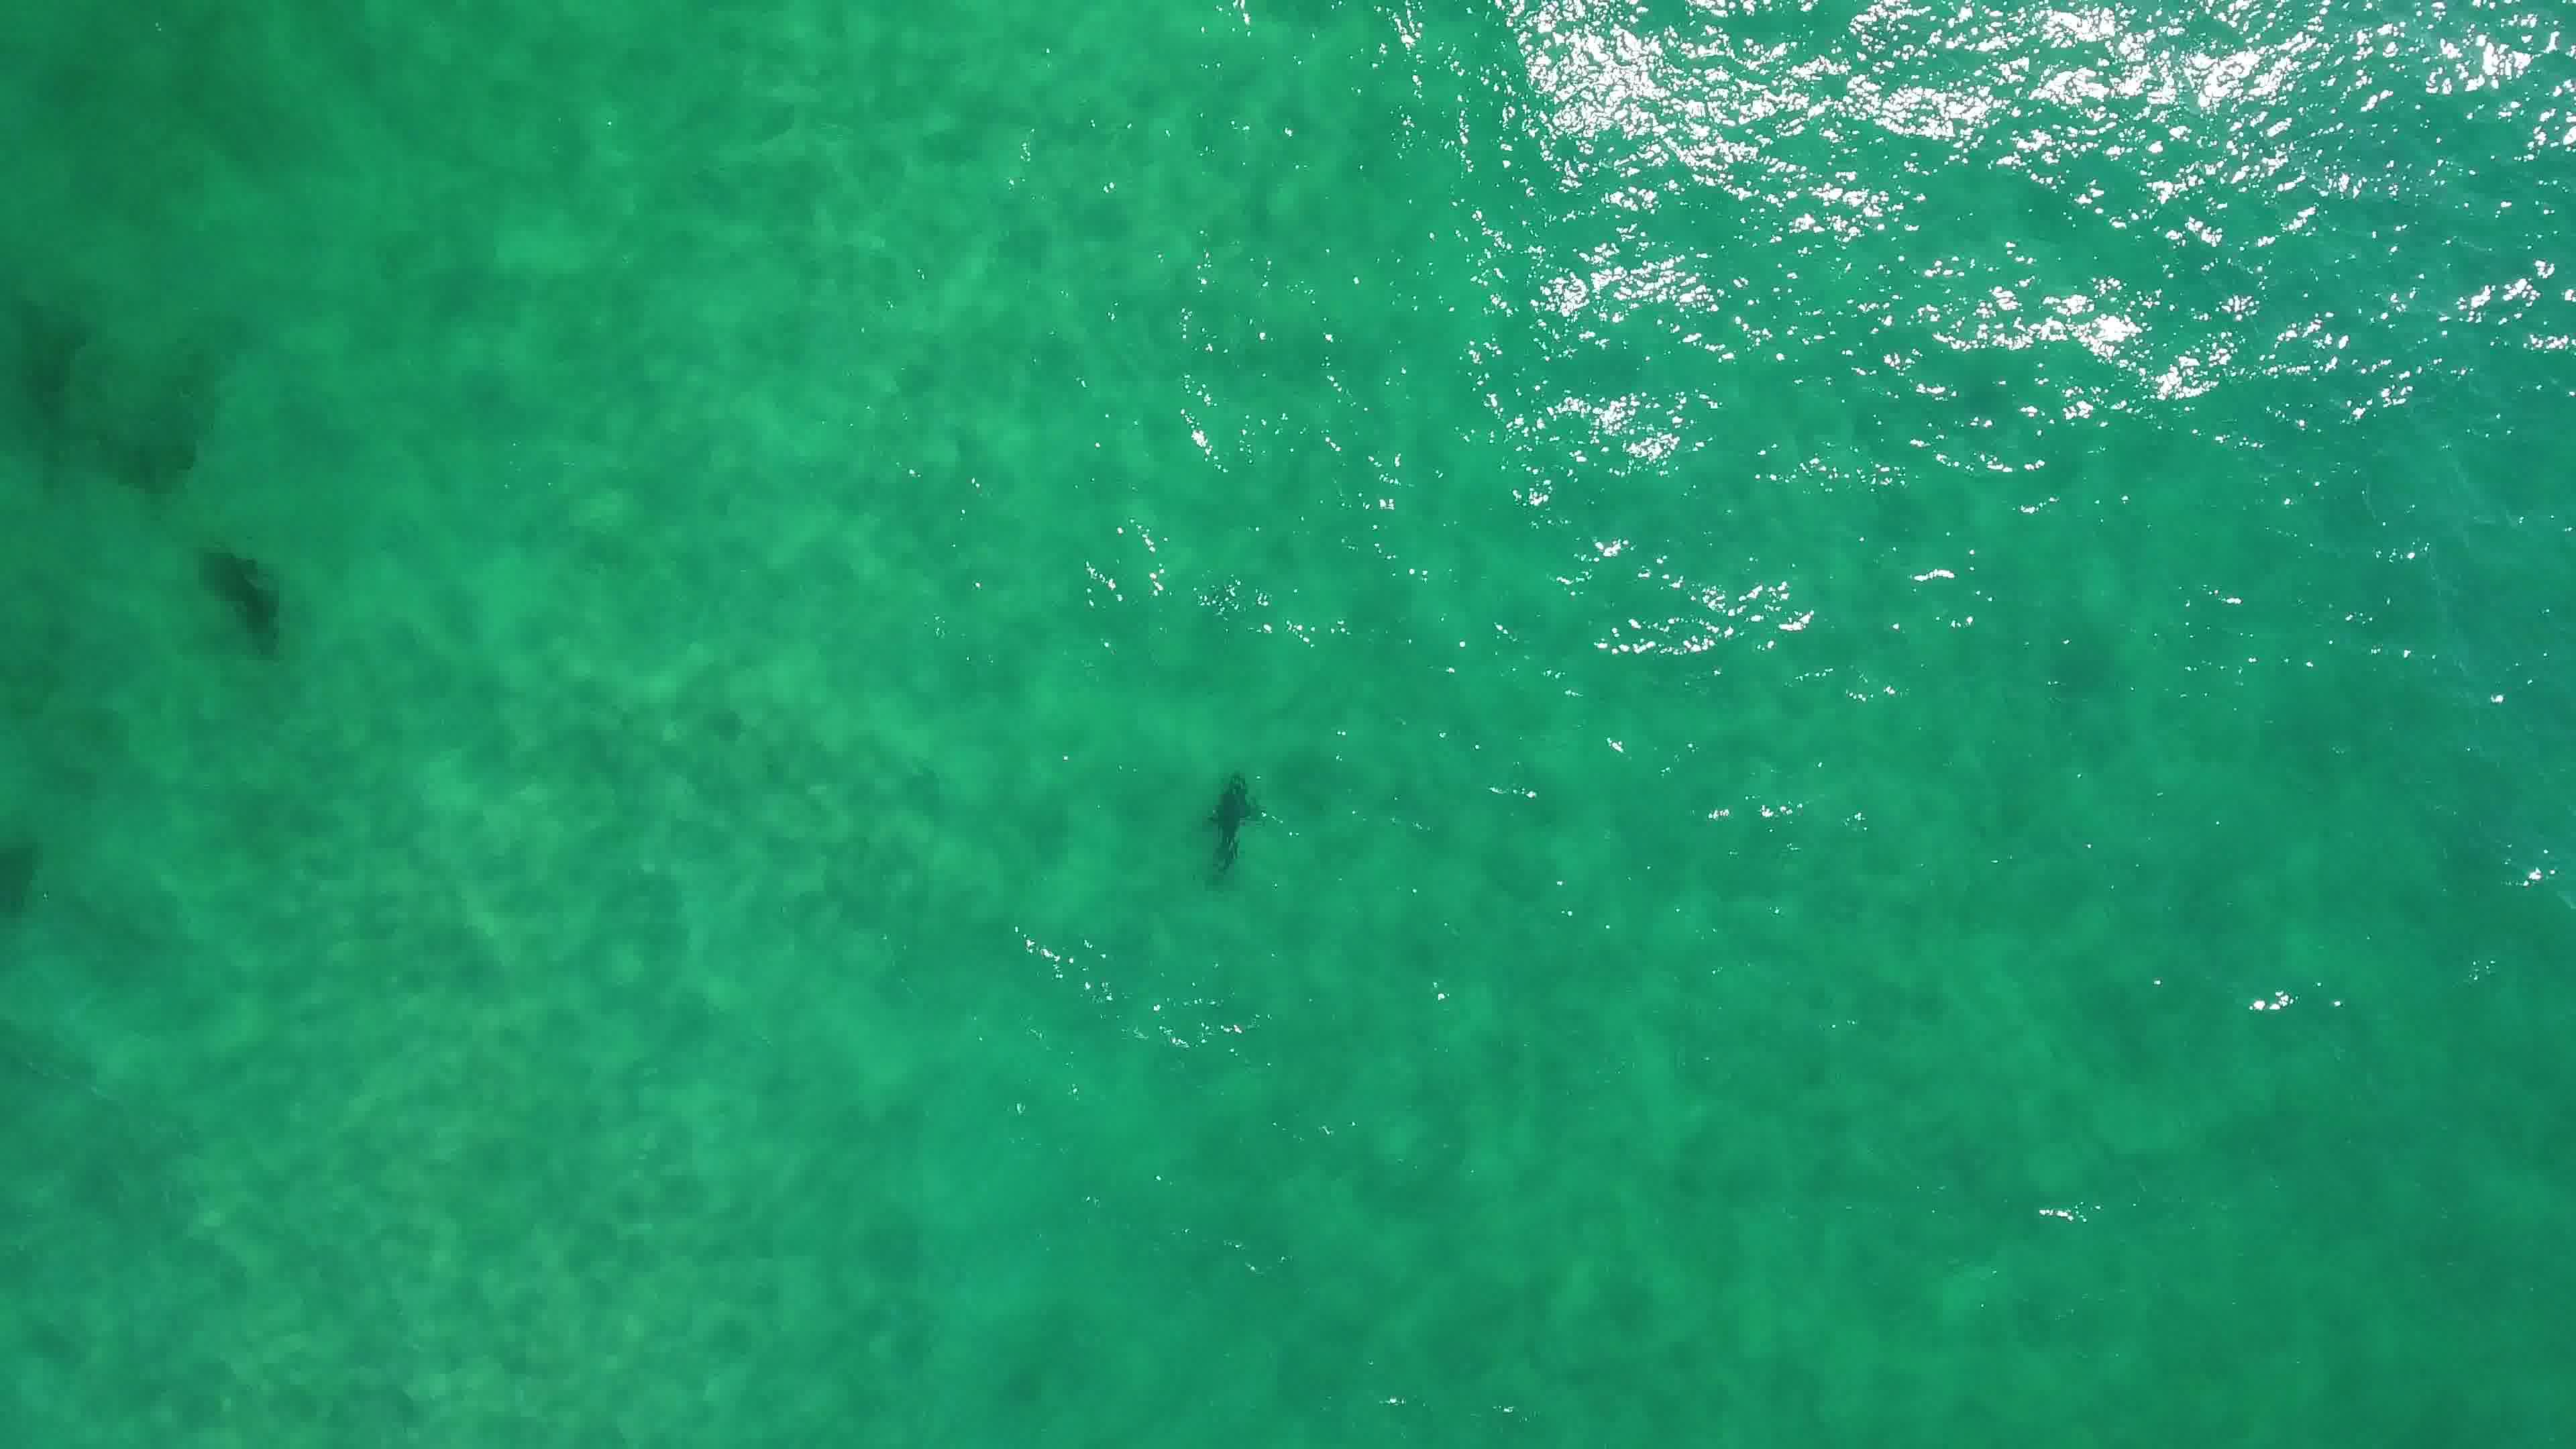shark: (1196, 761, 1272, 890)
